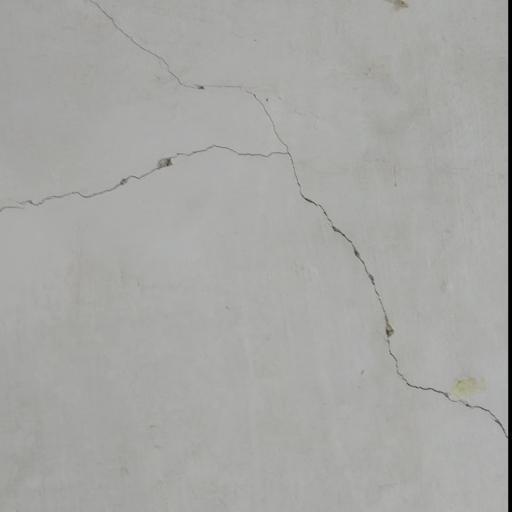minor_crack: (2, 0, 506, 442)
